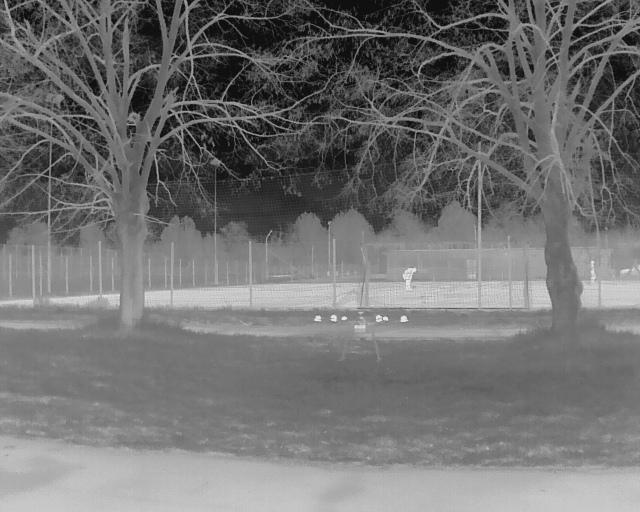drone: (309, 302, 416, 368)
